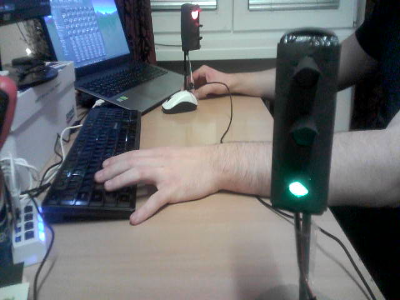trafficlight_green: (276, 40, 333, 206)
trafficlight_red: (186, 6, 201, 50)
